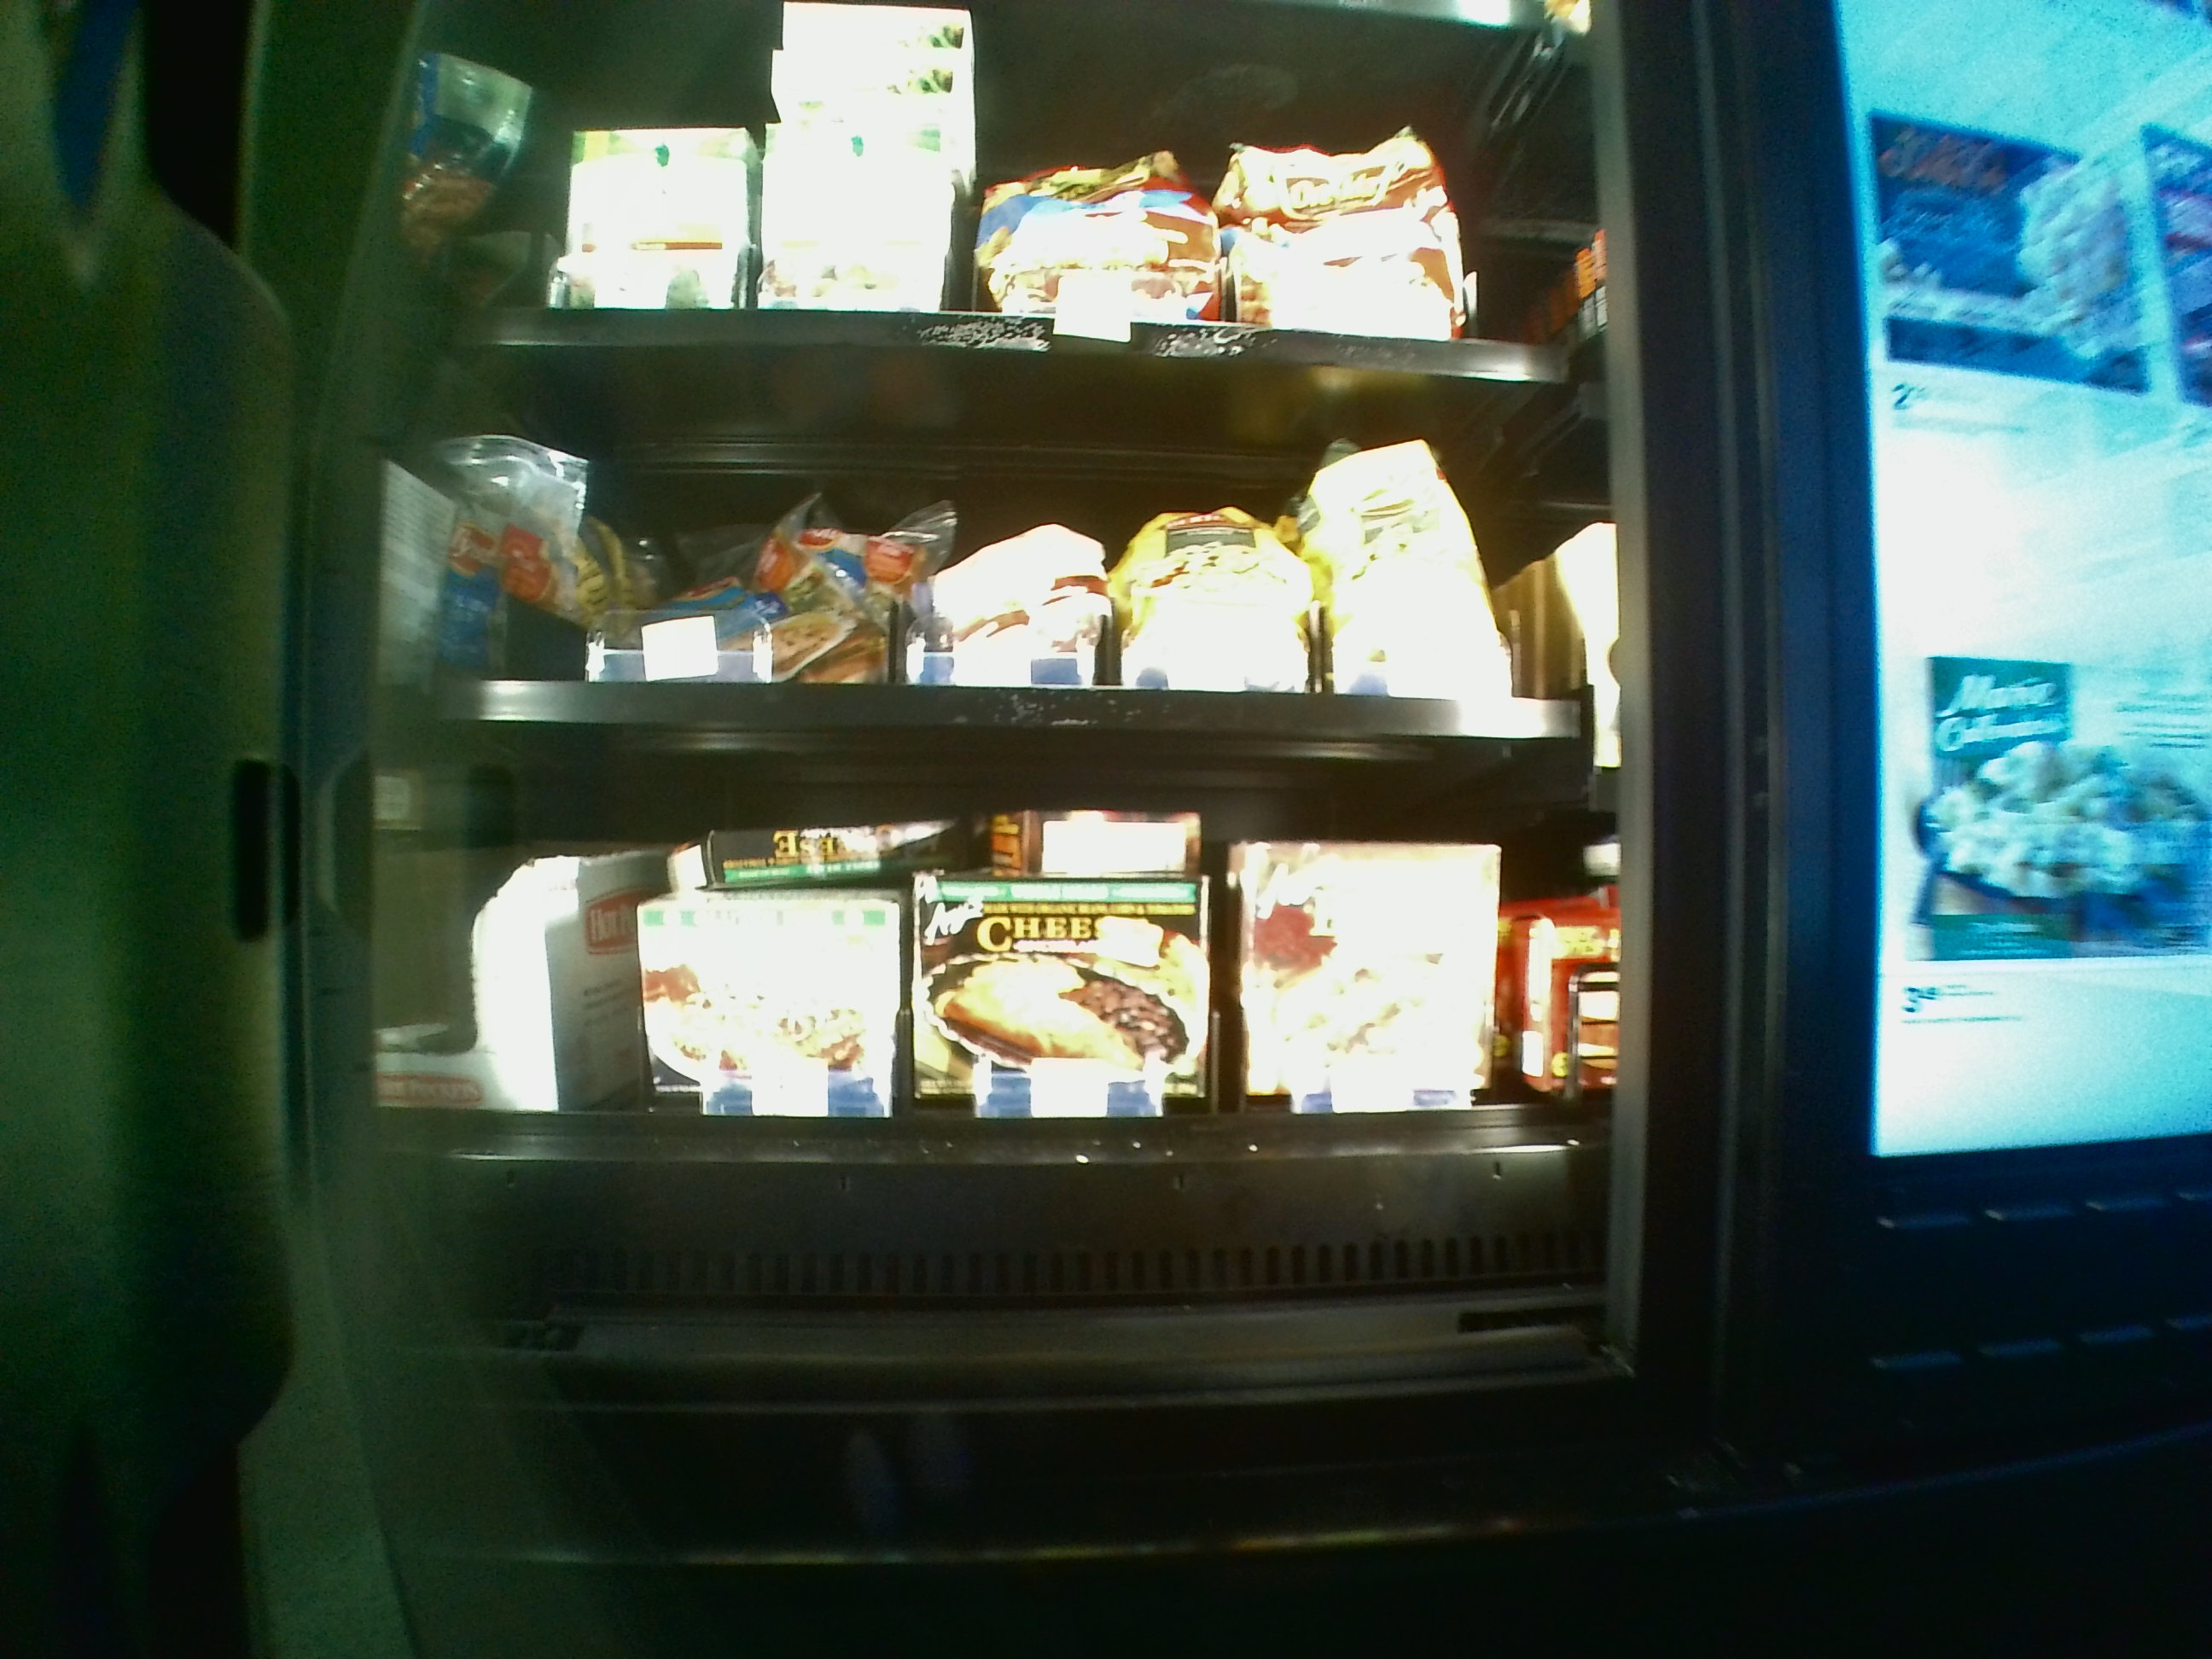shelf: (387, 734, 1630, 1368), (392, 345, 1616, 718)
